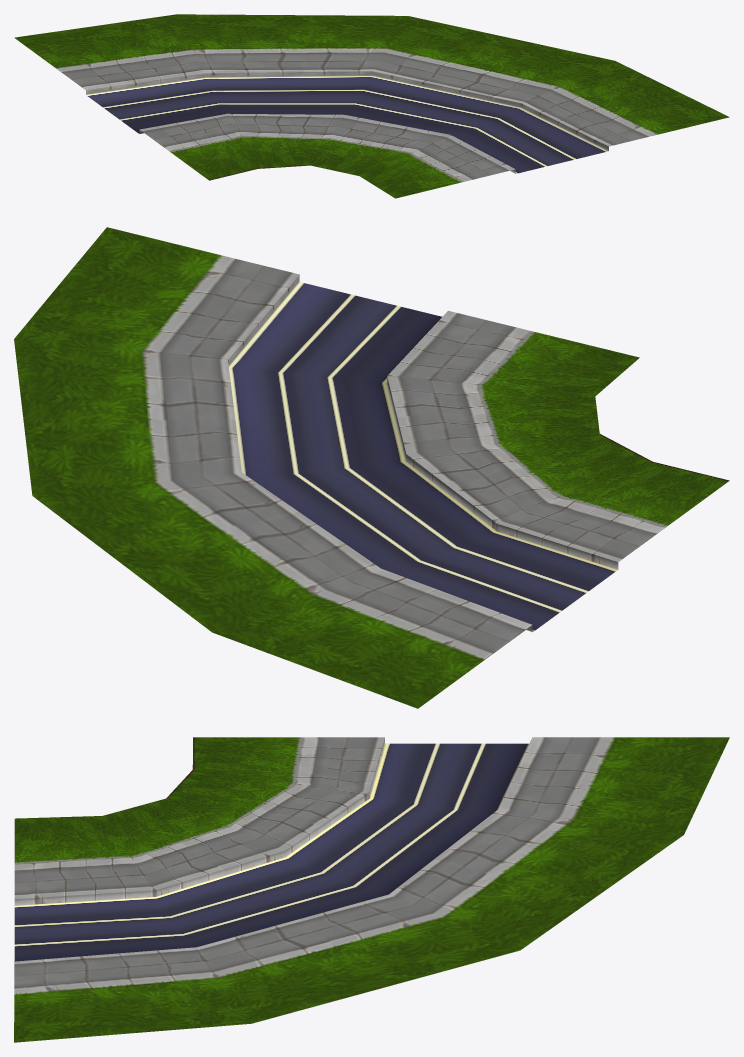
Rendered from pk_model_dianmian_zhuanwan_zuo.FBX.
3 renders of one model, top to bottom at view 1: azimuth 30°, elevation 25°; view 2: azimuth 150°, elevation 25°; view 3: azimuth 270°, elevation 25°, orthographic. The views are drawn at different scales.
Parts seen in each view (by area): view 1: Object086; view 2: Object086; view 3: Object086.
Boxes of the visible parts, x1,y1,x2,y2 form: Object086: [14, 14, 729, 198]; Object086: [14, 227, 729, 708]; Object086: [14, 737, 729, 1042].
Size of the model in its own units: 4070 by 40.01 by 4032.
Materials: 1 (1 with a texture image).
